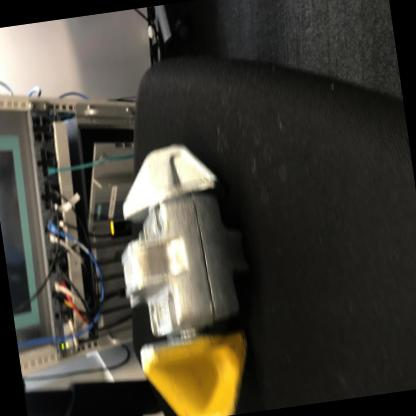Twistlock: (98, 129, 271, 415)
